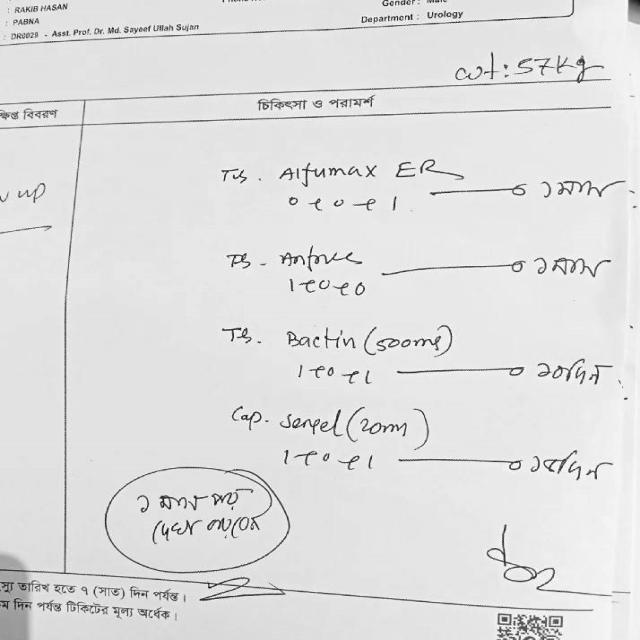medicine: (272, 154, 456, 184), (268, 235, 364, 275), (279, 316, 360, 356), (282, 404, 346, 442)
